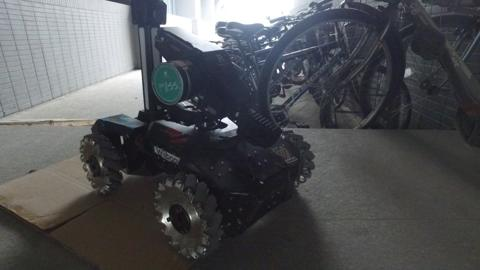bike: (222, 7, 461, 139)
chariot: (69, 1, 305, 249)
